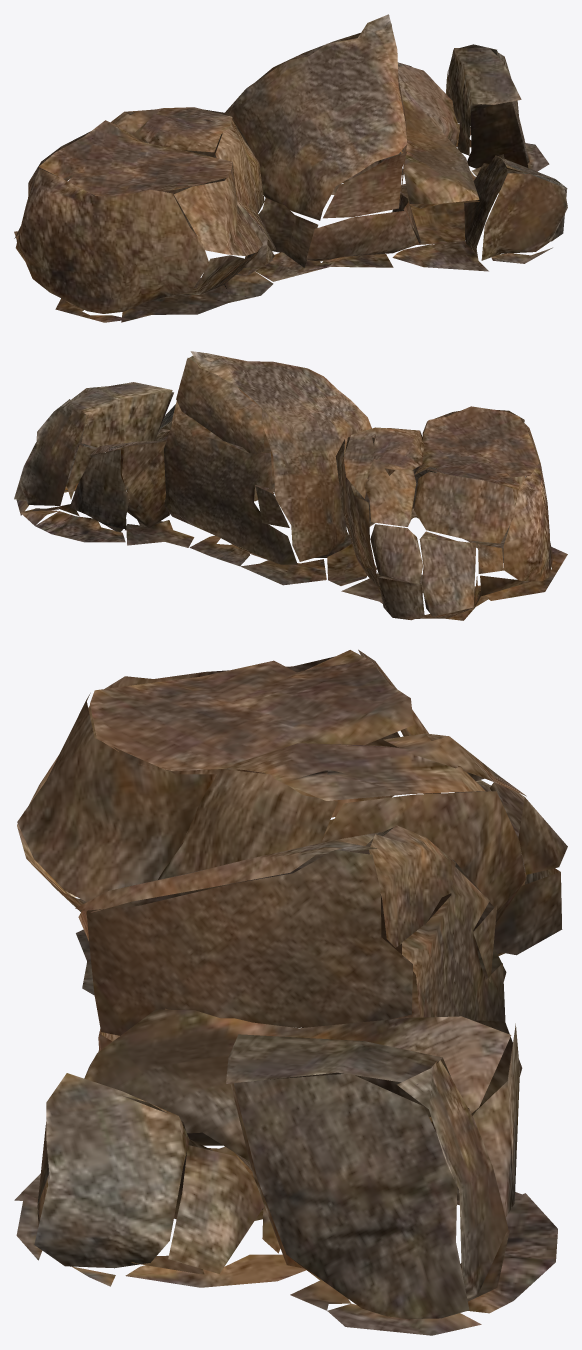
Rendered from namaqualand_boulder_02.glb.
3 views of the same model, one above another, from view 1: azimuth 30°, elevation 25°; view 2: azimuth 150°, elevation 25°; view 3: azimuth 270°, elevation 25° (orthographic). The views are drawn at different scales.
Parts seen in each view (by area): view 1: boulder_02; view 2: boulder_02; view 3: boulder_02.
Part boxes in pixels (left/top/right/bottom): boulder_02: left=14, top=14, right=567, bottom=322; boulder_02: left=14, top=351, right=567, bottom=620; boulder_02: left=14, top=649, right=567, bottom=1335.
Bounding box in the file's own units: 2 × 0.6929 × 0.973.
Materials: 1 (1 with a texture image).
